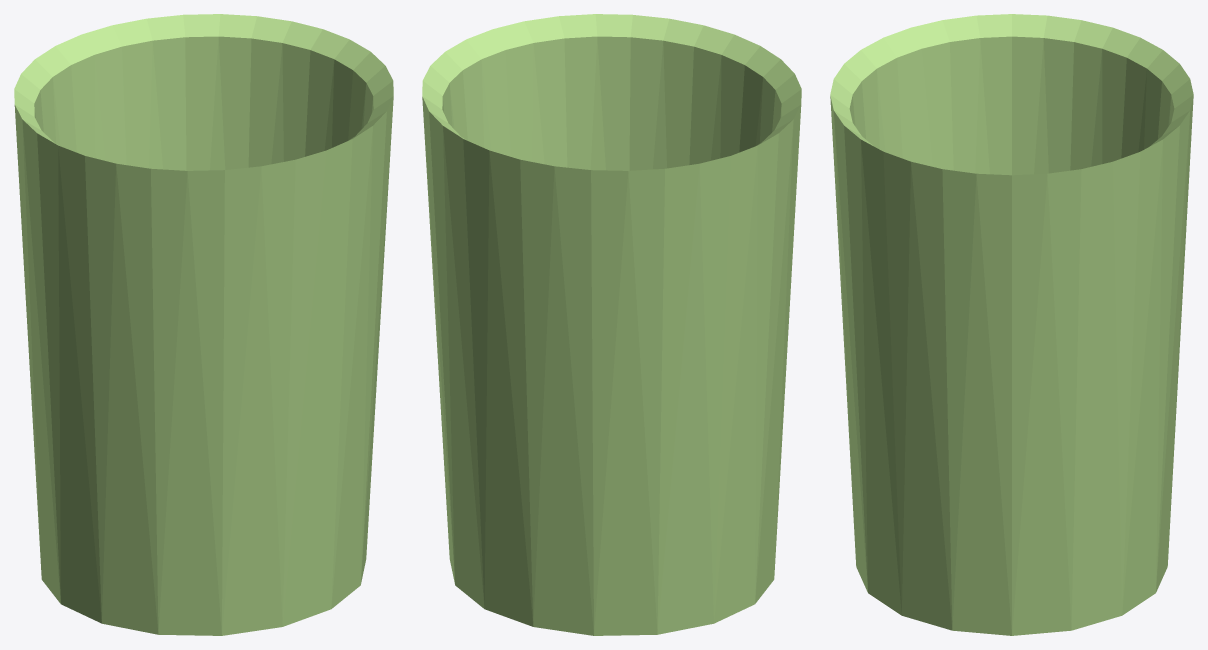
Rendered from Trash_Can.fbx.
3 renders of one model, left to right at view 1: azimuth 30°, elevation 25°; view 2: azimuth 150°, elevation 25°; view 3: azimuth 270°, elevation 25°, orthographic.
Visible parts, largest first — view 1: Trash Can; view 2: Trash Can; view 3: Trash Can.
Part boxes in pixels (x1,y1,x2,y2): Trash Can: (14,14,393,635); Trash Can: (422,14,801,635); Trash Can: (830,14,1193,635).
Size of the model in its own units: 1.18 by 1.61 by 1.12.
